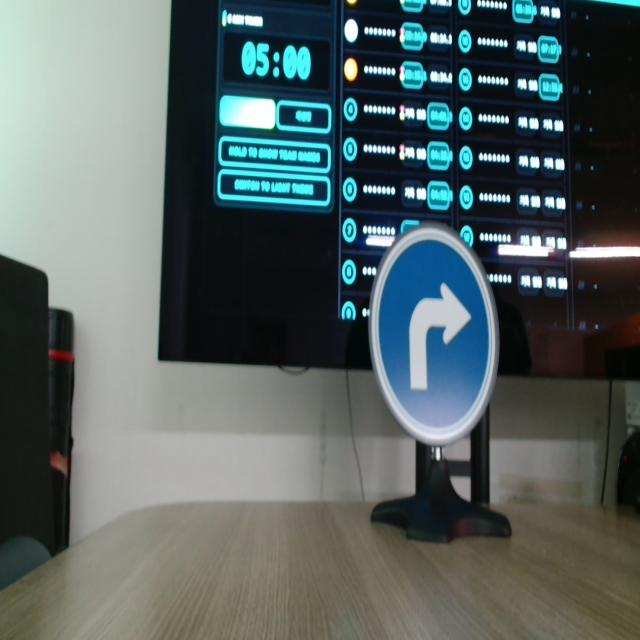right_dierection: (364, 221, 496, 446)
